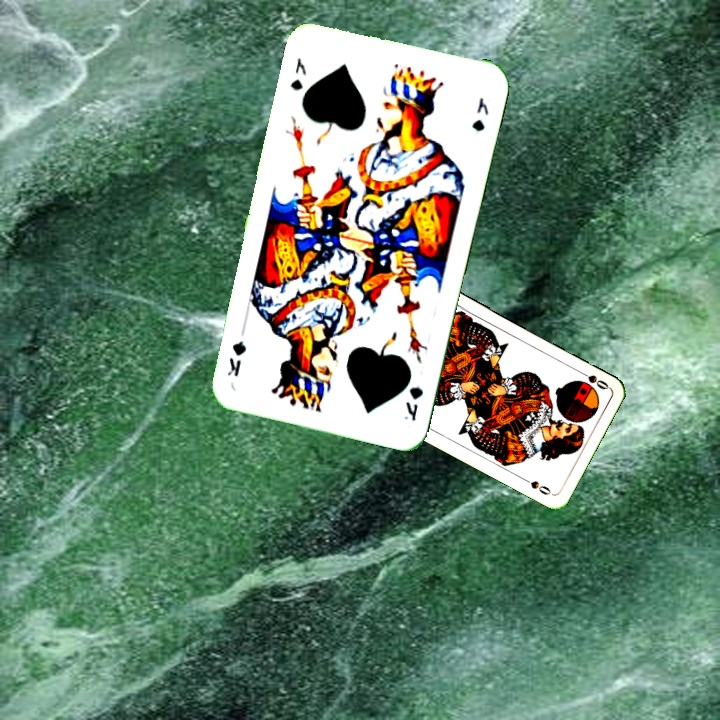GK: (400, 382, 426, 424), (286, 53, 309, 93)
SO: (574, 366, 611, 392)
